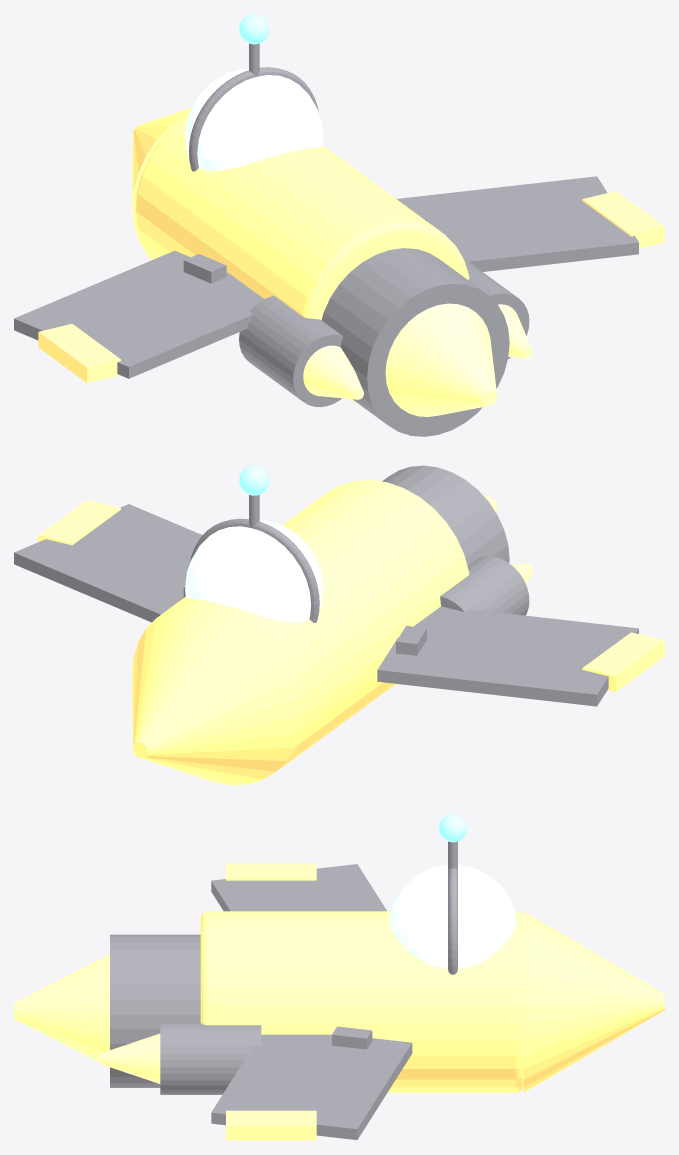
File: spaceship.glb
3 renders of one model, top to bottom at view 1: azimuth 30°, elevation 25°; view 2: azimuth 150°, elevation 25°; view 3: azimuth 270°, elevation 25°, orthographic. The views are drawn at different scales.
Parts seen in each view (by area): view 1: Cylinder, Cube, Cylinder.001, Cube.002, Cone.001, Sphere, Cylinder.002, Cube.001, Cone.002, Cube.003, Cone, Torus (+4 smaller); view 2: Cylinder, Cone, Cube, Cube.002, Sphere, Cylinder.001, Cylinder.002, Cube.001, Cube.003, Torus, Sphere.001, Cube.004; view 3: Cylinder, Cone, Cube.002, Cylinder.001, Sphere, Cone.001, Cylinder.003, Cube, Cube.003, Cone.003, Cube.001, Torus (+2 smaller).
Part boxes in pixels (x1=…): Cylinder: x1=135, y1=115, x2=469, y2=401; Cube: x1=14, y1=250, x2=263, y2=378; Cylinder.001: x1=321, y1=248, x2=509, y2=436; Cube.002: x1=397, y1=176, x2=638, y2=271; Cone.001: x1=385, y1=303, x2=497, y2=416; Sphere: x1=185, y1=68, x2=323, y2=171; Cylinder.002: x1=239, y1=296, x2=342, y2=407; Cube.001: x1=38, y1=324, x2=120, y2=383; Cone.002: x1=303, y1=345, x2=363, y2=399; Cube.003: x1=582, y1=191, x2=664, y2=248; Cone: x1=132, y1=108, x2=191, y2=259; Torus: x1=188, y1=67, x2=318, y2=171; Cylinder: x1=160, y1=480, x2=469, y2=769; Cone: x1=132, y1=604, x2=300, y2=785; Cube: x1=377, y1=606, x2=638, y2=706; Cube.002: x1=14, y1=504, x2=202, y2=622; Sphere: x1=185, y1=519, x2=323, y2=622; Cylinder.001: x1=382, y1=465, x2=509, y2=565; Cylinder.002: x1=440, y1=556, x2=529, y2=615; Cube.001: x1=582, y1=632, x2=664, y2=691; Cube.003: x1=38, y1=499, x2=120, y2=545; Torus: x1=189, y1=518, x2=319, y2=622; Sphere.001: x1=239, y1=465, x2=269, y2=495; Cube.004: x1=396, y1=626, x2=426, y2=655; Cylinder: x1=200, y1=911, x2=523, y2=1092; Cone: x1=523, y1=911, x2=664, y2=1092; Cube.002: x1=211, y1=1034, x2=412, y2=1139; Cylinder.001: x1=110, y1=934, x2=200, y2=1087; Sphere: x1=389, y1=864, x2=516, y2=968; Cone.001: x1=14, y1=954, x2=109, y2=1067; Cylinder.003: x1=160, y1=1022, x2=261, y2=1094; Cube: x1=211, y1=864, x2=386, y2=911; Cube.003: x1=226, y1=1110, x2=316, y2=1140; Cone.003: x1=99, y1=1033, x2=160, y2=1083; Cube.001: x1=226, y1=863, x2=316, y2=880; Torus: x1=448, y1=868, x2=457, y2=974.
Size of the model in its own units: 3.11 by 1.47 by 3.23.
